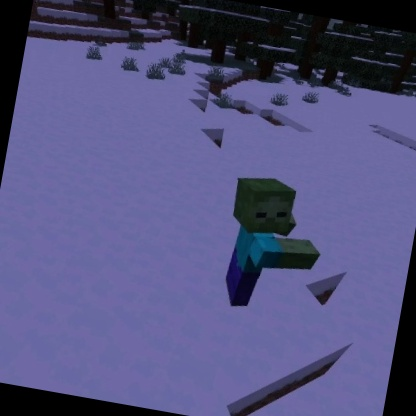zombie: (211, 168, 337, 323)
